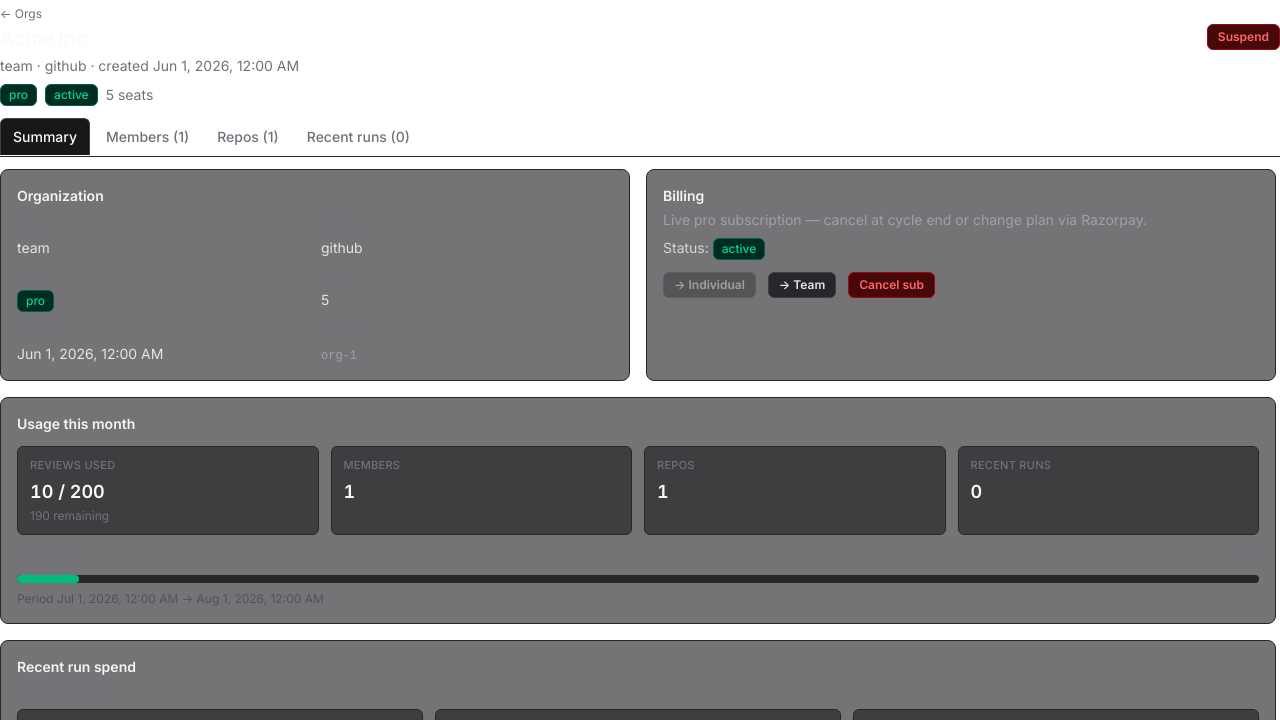
OrgDetail page › shows the repos list on the Repos tab
This screenshot has width=1280, height=720.
Click the tab "Repos (1)" at (248, 136), box [205,118,291,155]
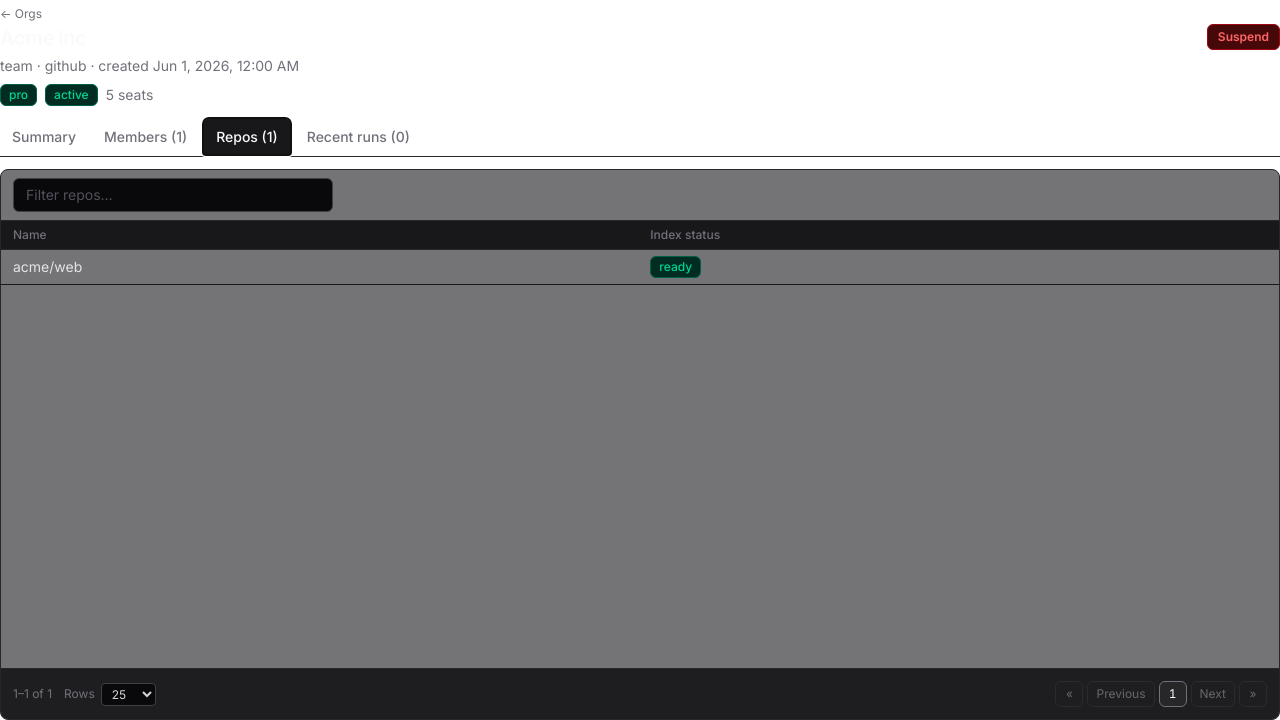
Expected: the text "acme/web" is shown, [1,250,638,284]
Expected: the text "ready" is shown, [650,256,701,278]
